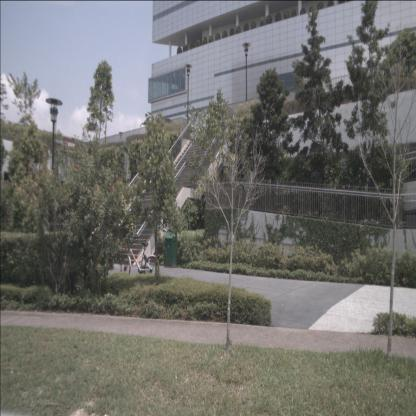vehicle-bicycle: (120, 236, 160, 279)
